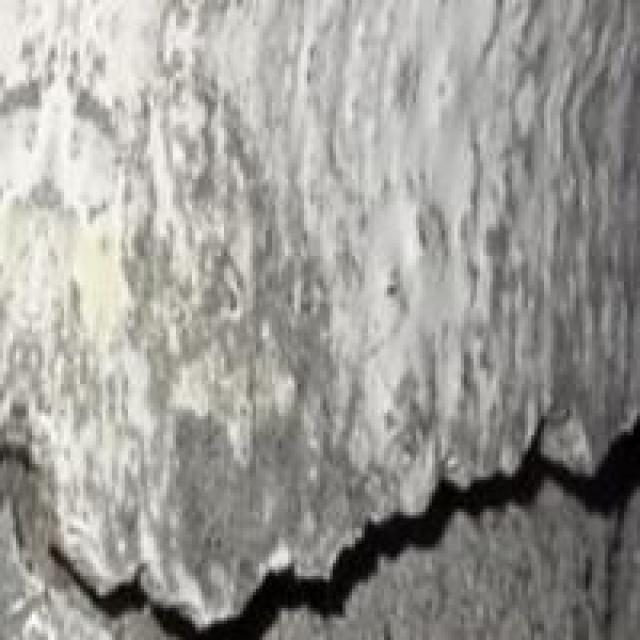crack: (0, 371, 637, 637)
